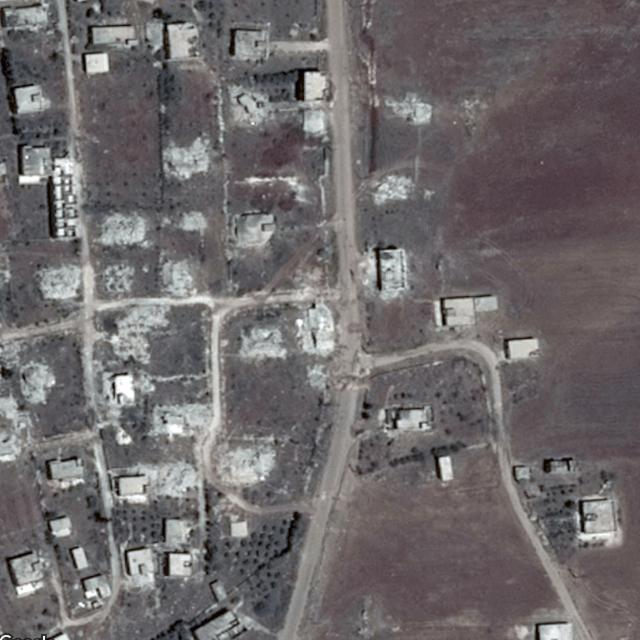damaged_building: (105, 305, 172, 365), (215, 437, 278, 490), (294, 300, 339, 356), (145, 403, 212, 437), (160, 135, 213, 177), (91, 212, 152, 248), (357, 171, 421, 204), (139, 462, 199, 496), (0, 395, 31, 459), (31, 263, 81, 300), (235, 326, 287, 361), (156, 258, 200, 296), (381, 91, 433, 123), (21, 362, 57, 401), (100, 263, 134, 292), (162, 209, 206, 228)
